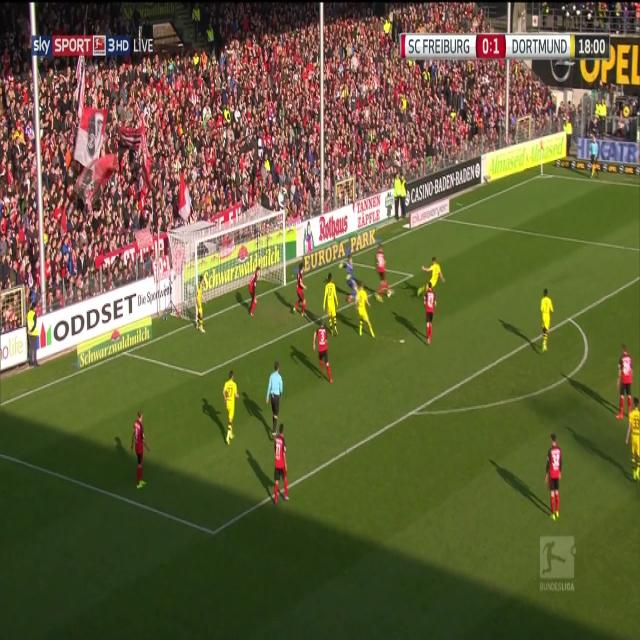Ball: (386, 287, 394, 302)
Goalkeeper: (339, 253, 356, 303)
Player: (543, 431, 564, 524), (614, 342, 636, 422), (221, 370, 241, 450), (131, 410, 149, 497), (272, 421, 289, 513), (312, 318, 334, 387), (416, 254, 446, 302), (354, 283, 378, 343), (624, 398, 640, 486), (538, 284, 556, 356), (323, 270, 341, 339), (374, 242, 392, 302), (424, 280, 439, 348), (291, 262, 308, 320), (248, 264, 261, 320), (196, 275, 206, 335)
Referee: (264, 358, 286, 434), (588, 137, 600, 178)
